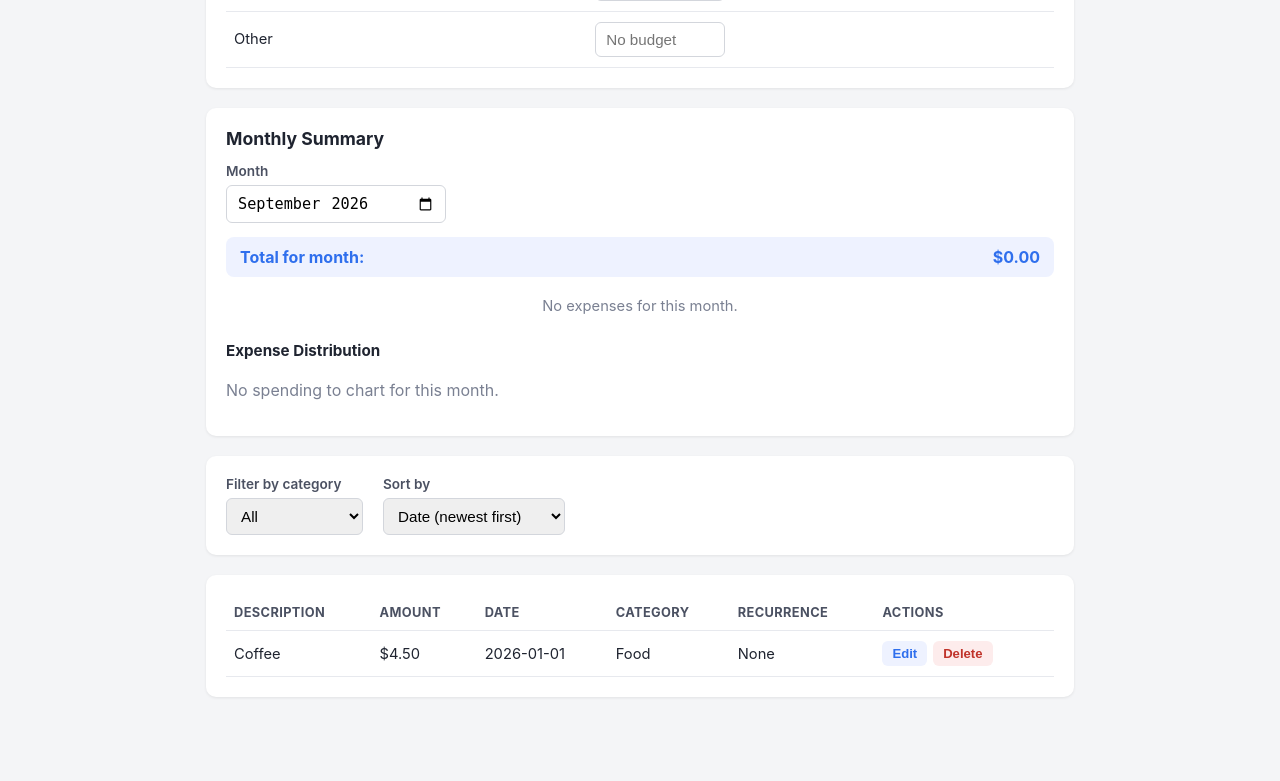
App › shows an error when deleting an expense fails
(page scrolled)
Expected: the text "Coffee" is shown, [226,631,372,677]
Click the button "Delete": point(963, 654) [933,641,993,666]
(page scrolled)
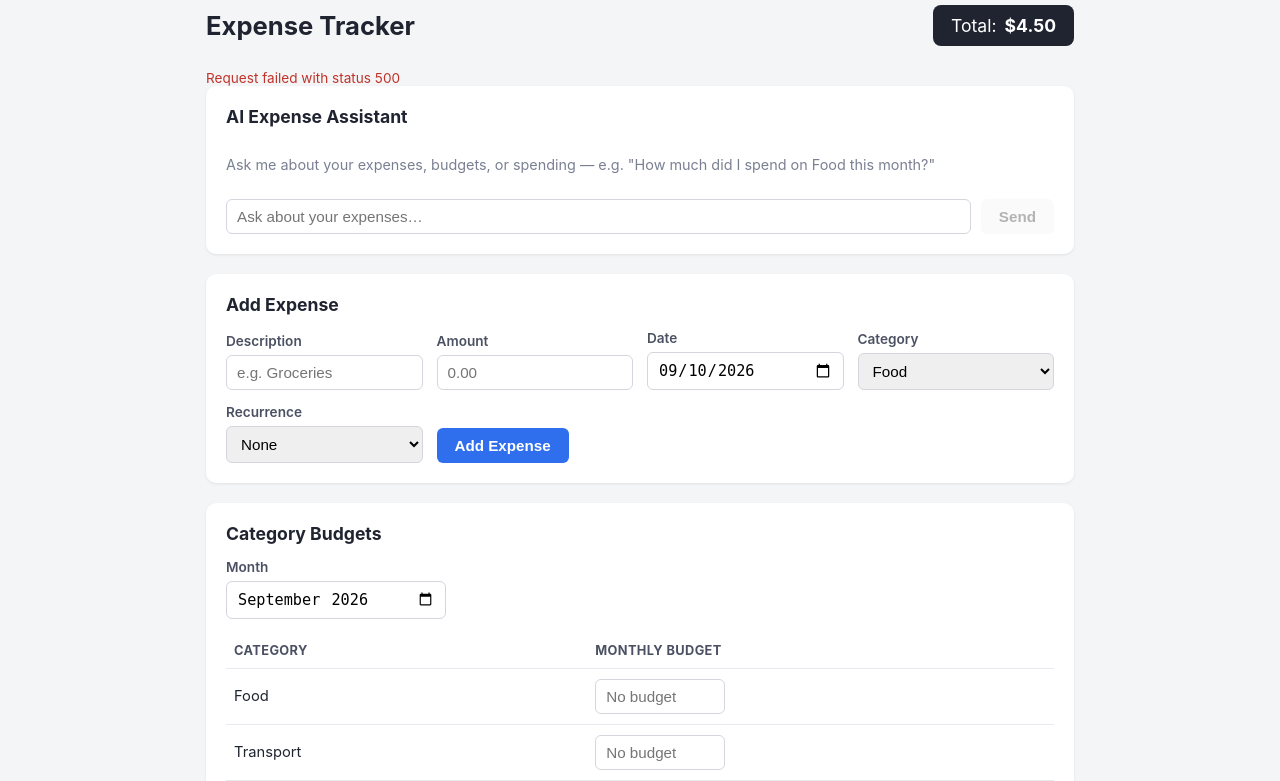
Now the text "Request failed with status 500" is shown, box [206,70,400,86]
